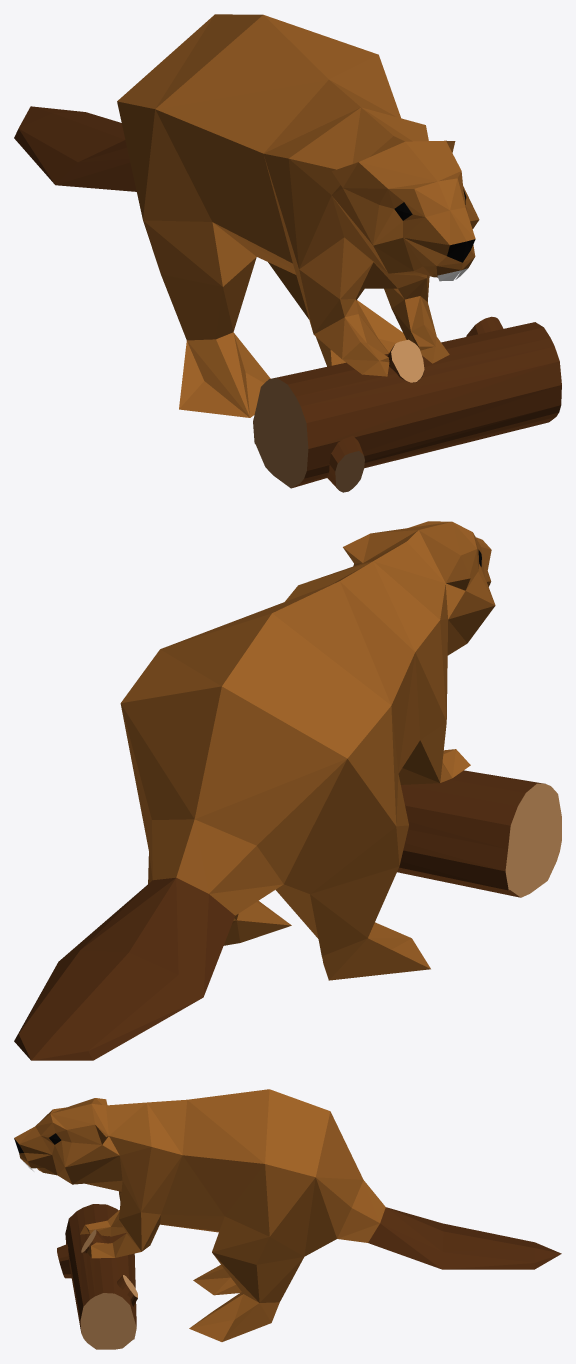
File: Castor.fbx
3 views of the same model, one above another, from view 1: azimuth 30°, elevation 25°; view 2: azimuth 150°, elevation 25°; view 3: azimuth 270°, elevation 25° (orthographic). The views are drawn at different scales.
Parts seen in each view (by area): view 1: G_0Editable_Mesh_00_1_1, Group1; view 2: G_0Editable_Mesh_00_1_1, Group1; view 3: G_0Editable_Mesh_00_1_1, Group1.
Boxes of the visible parts, <box> form: G_0Editable_Mesh_00_1_1: <box>14,14,479,417</box>; Group1: <box>253,316,561,492</box>; G_0Editable_Mesh_00_1_1: <box>14,521,495,1060</box>; Group1: <box>397,770,561,897</box>; G_0Editable_Mesh_00_1_1: <box>14,1089,561,1341</box>; Group1: <box>57,1204,137,1349</box>.
Bounding box in the file's own units: 339 × 413 × 953.
